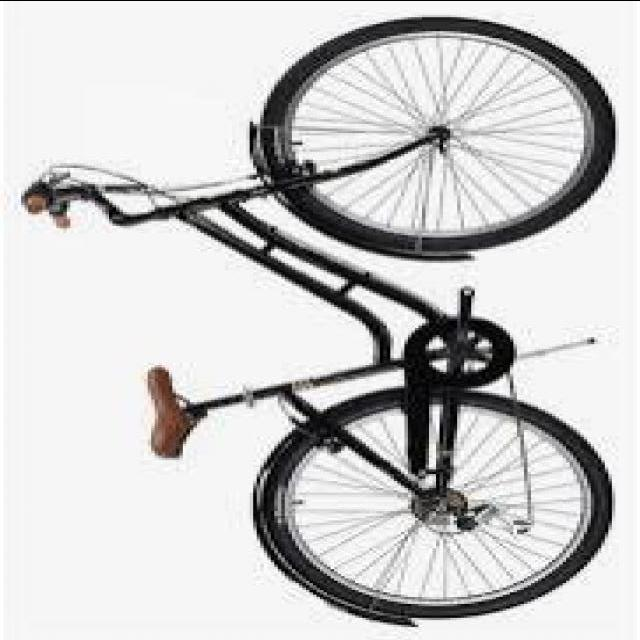bicycle: (19, 17, 599, 609)
